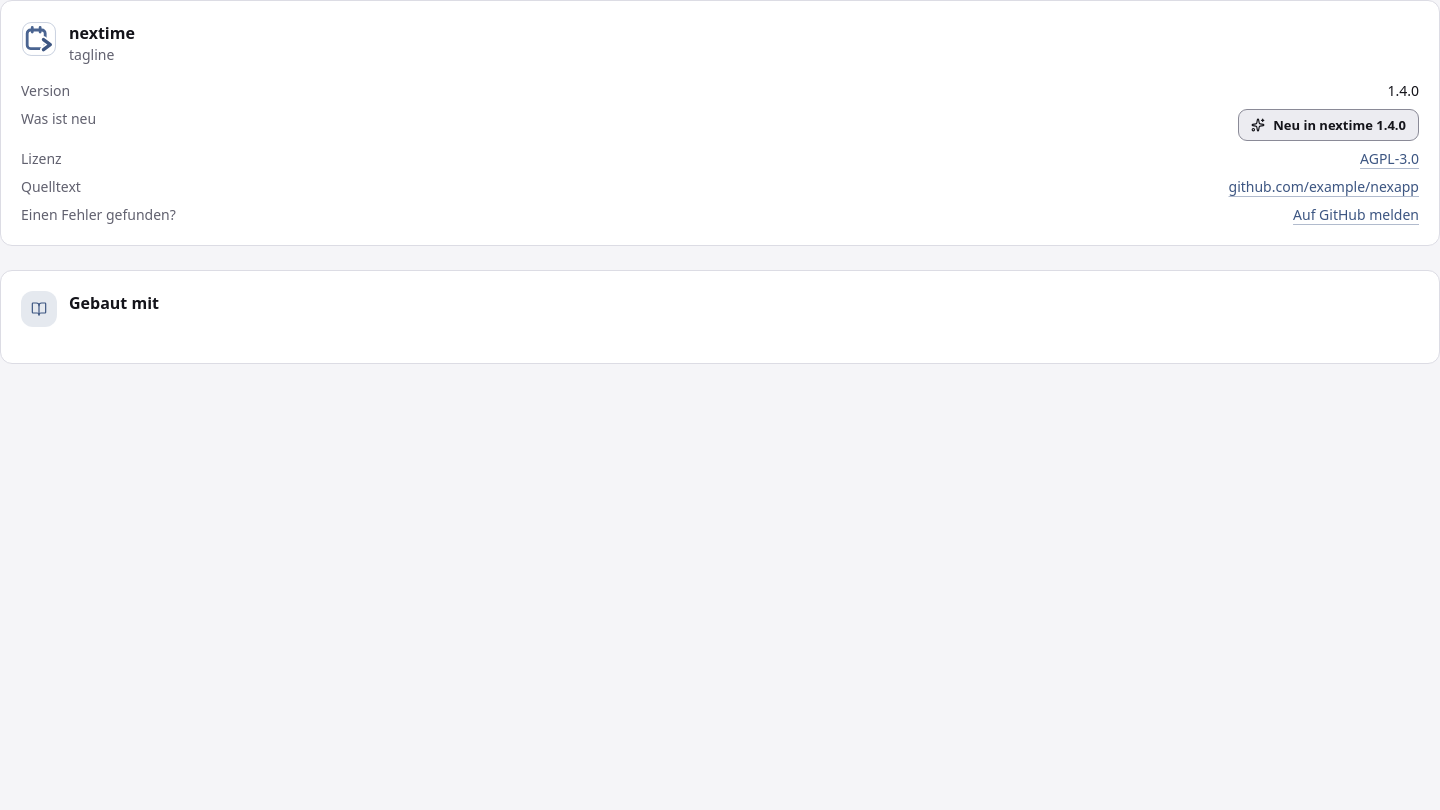
Test: what's new on About › opens the newest text and the earlier versions, and puts nothing away
The width and height of the screenshot is (1440, 810).
Click the button with test id "about-whats-new" at (1329, 125), box top-left (1238, 109), bottom-right (1419, 141)
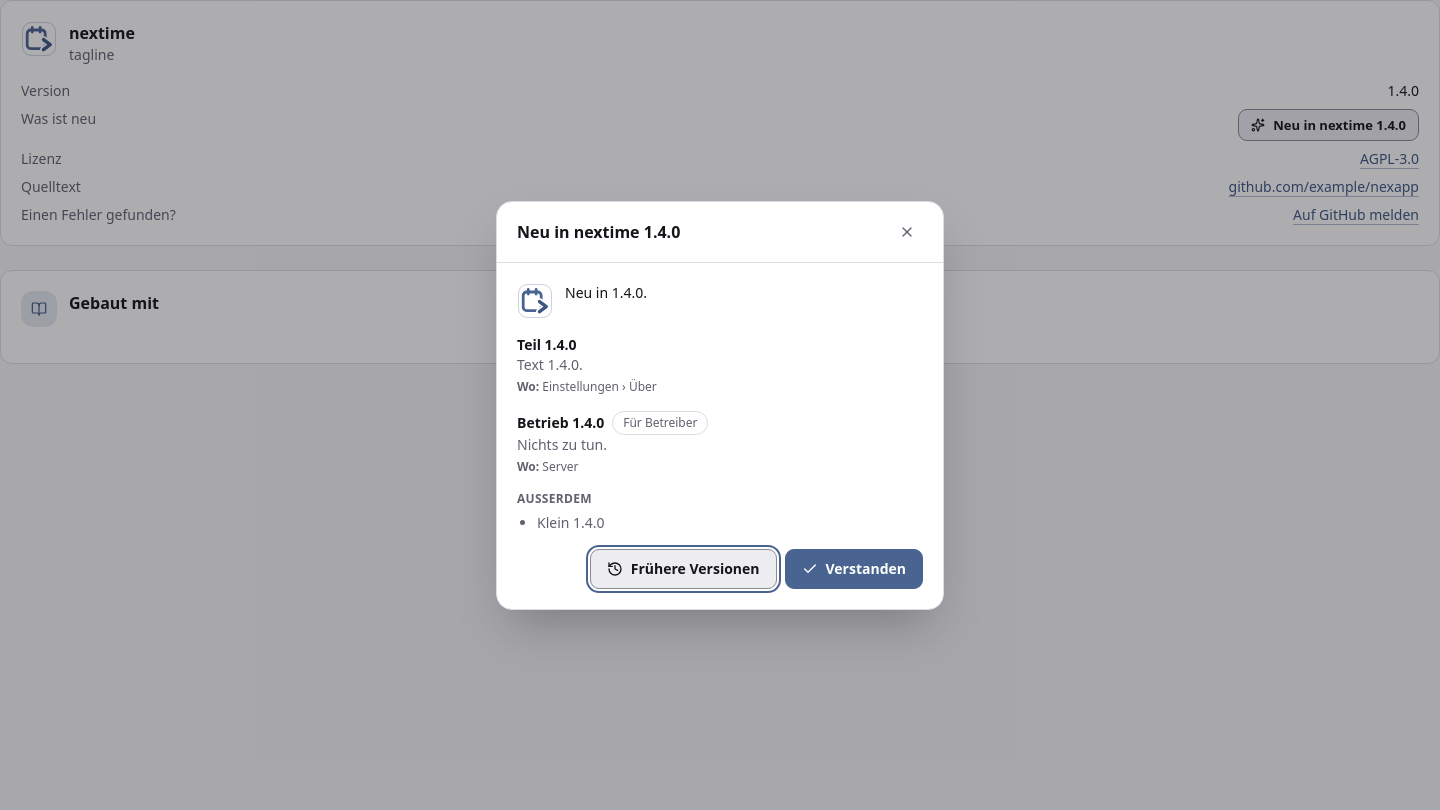
Expected: the button "Frühere Versionen" is shown
Click the button "Frühere Versionen" at (683, 568), box top-left (590, 548), bottom-right (776, 588)
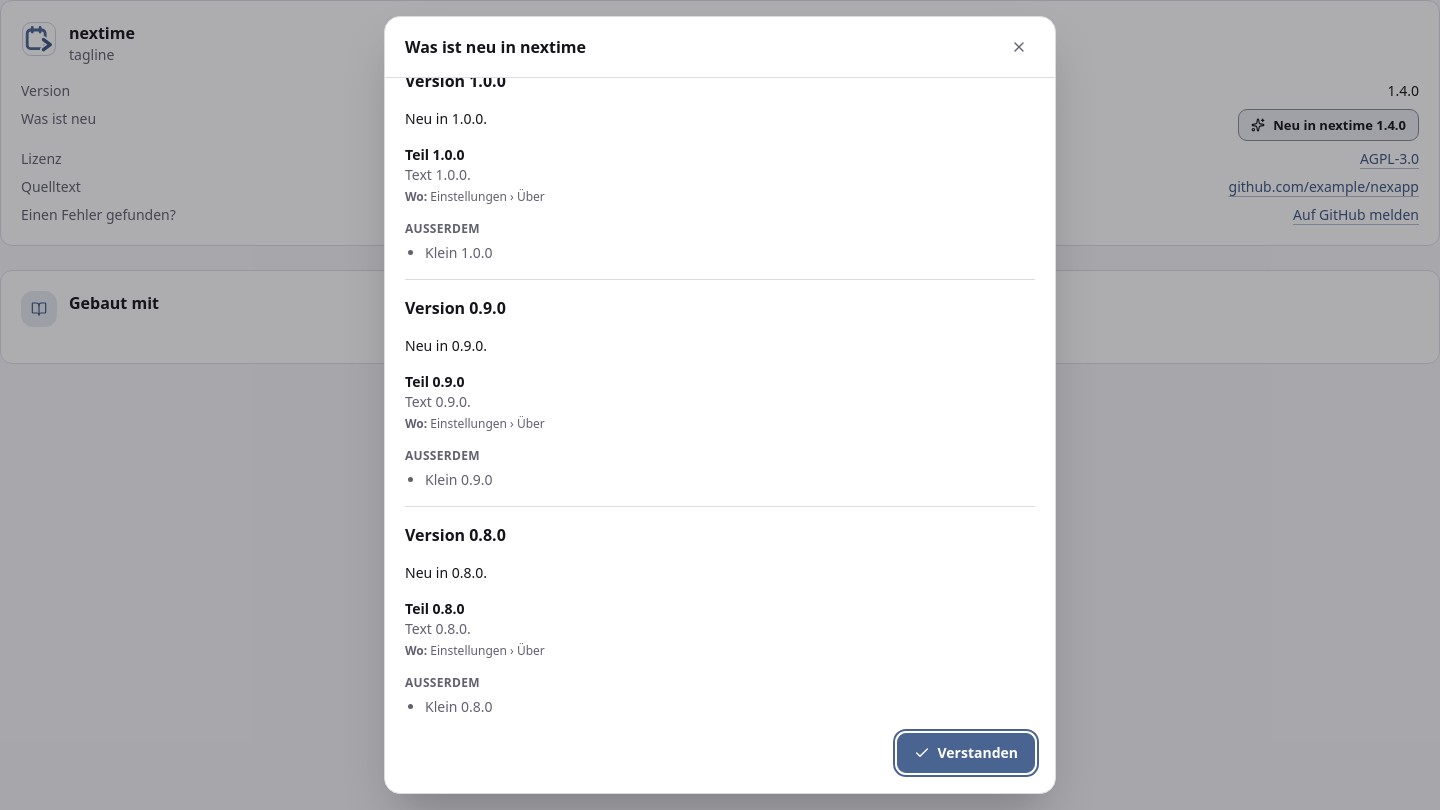
Expected: the button "Verstanden" is shown
Click the button "Verstanden" at (966, 753), box top-left (896, 733), bottom-right (1035, 773)
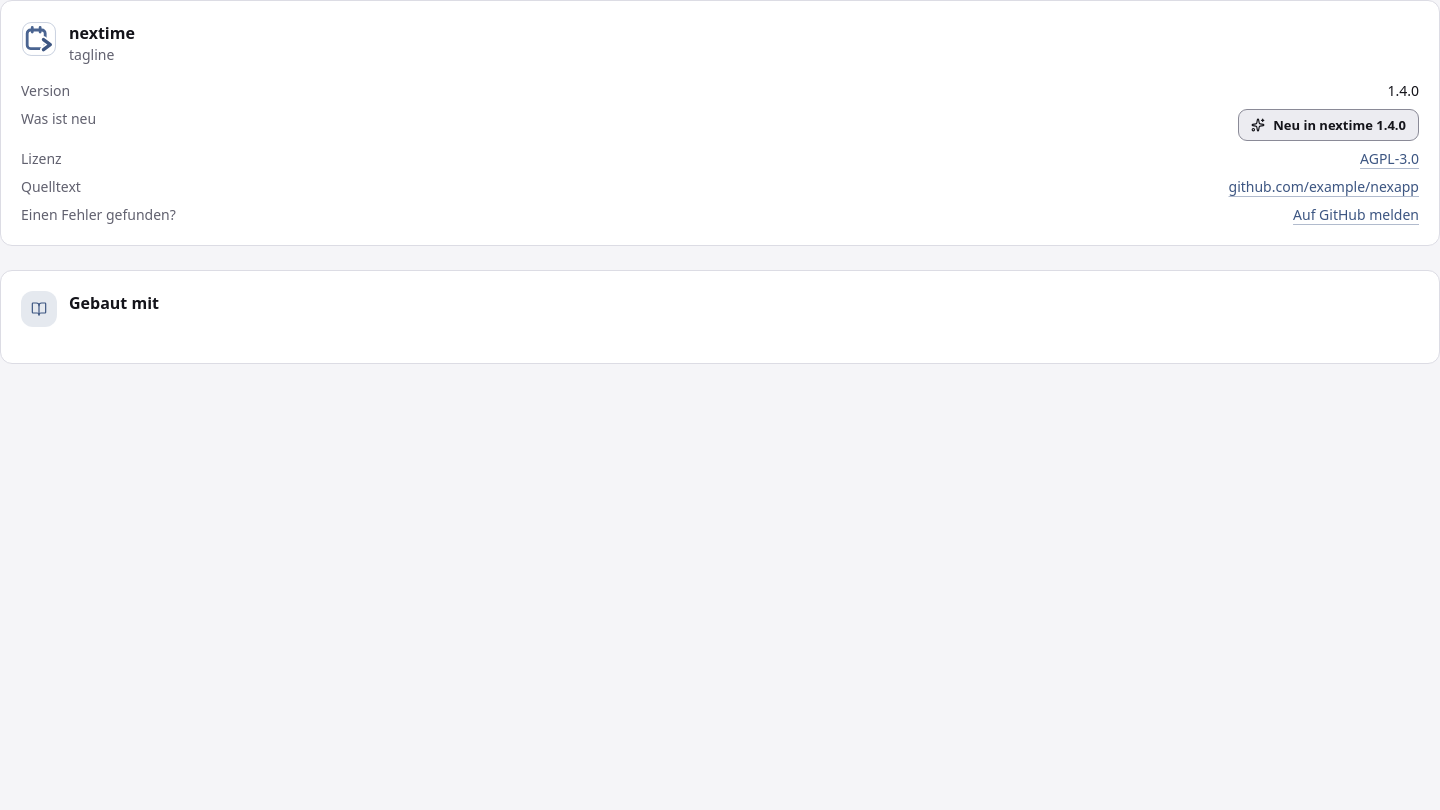
Expected: the dialog with test id "whats-new-window" is gone
